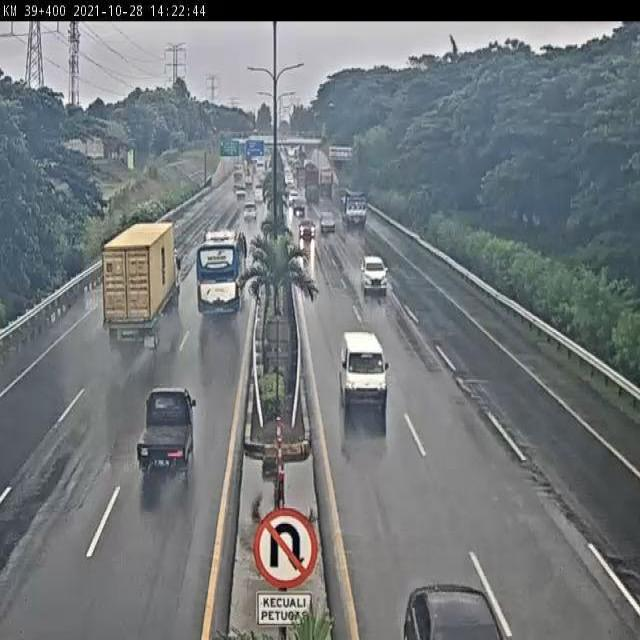bus-l-: (193, 228, 250, 321)
car: (135, 384, 196, 473)
truck-xl-: (102, 224, 182, 347)
